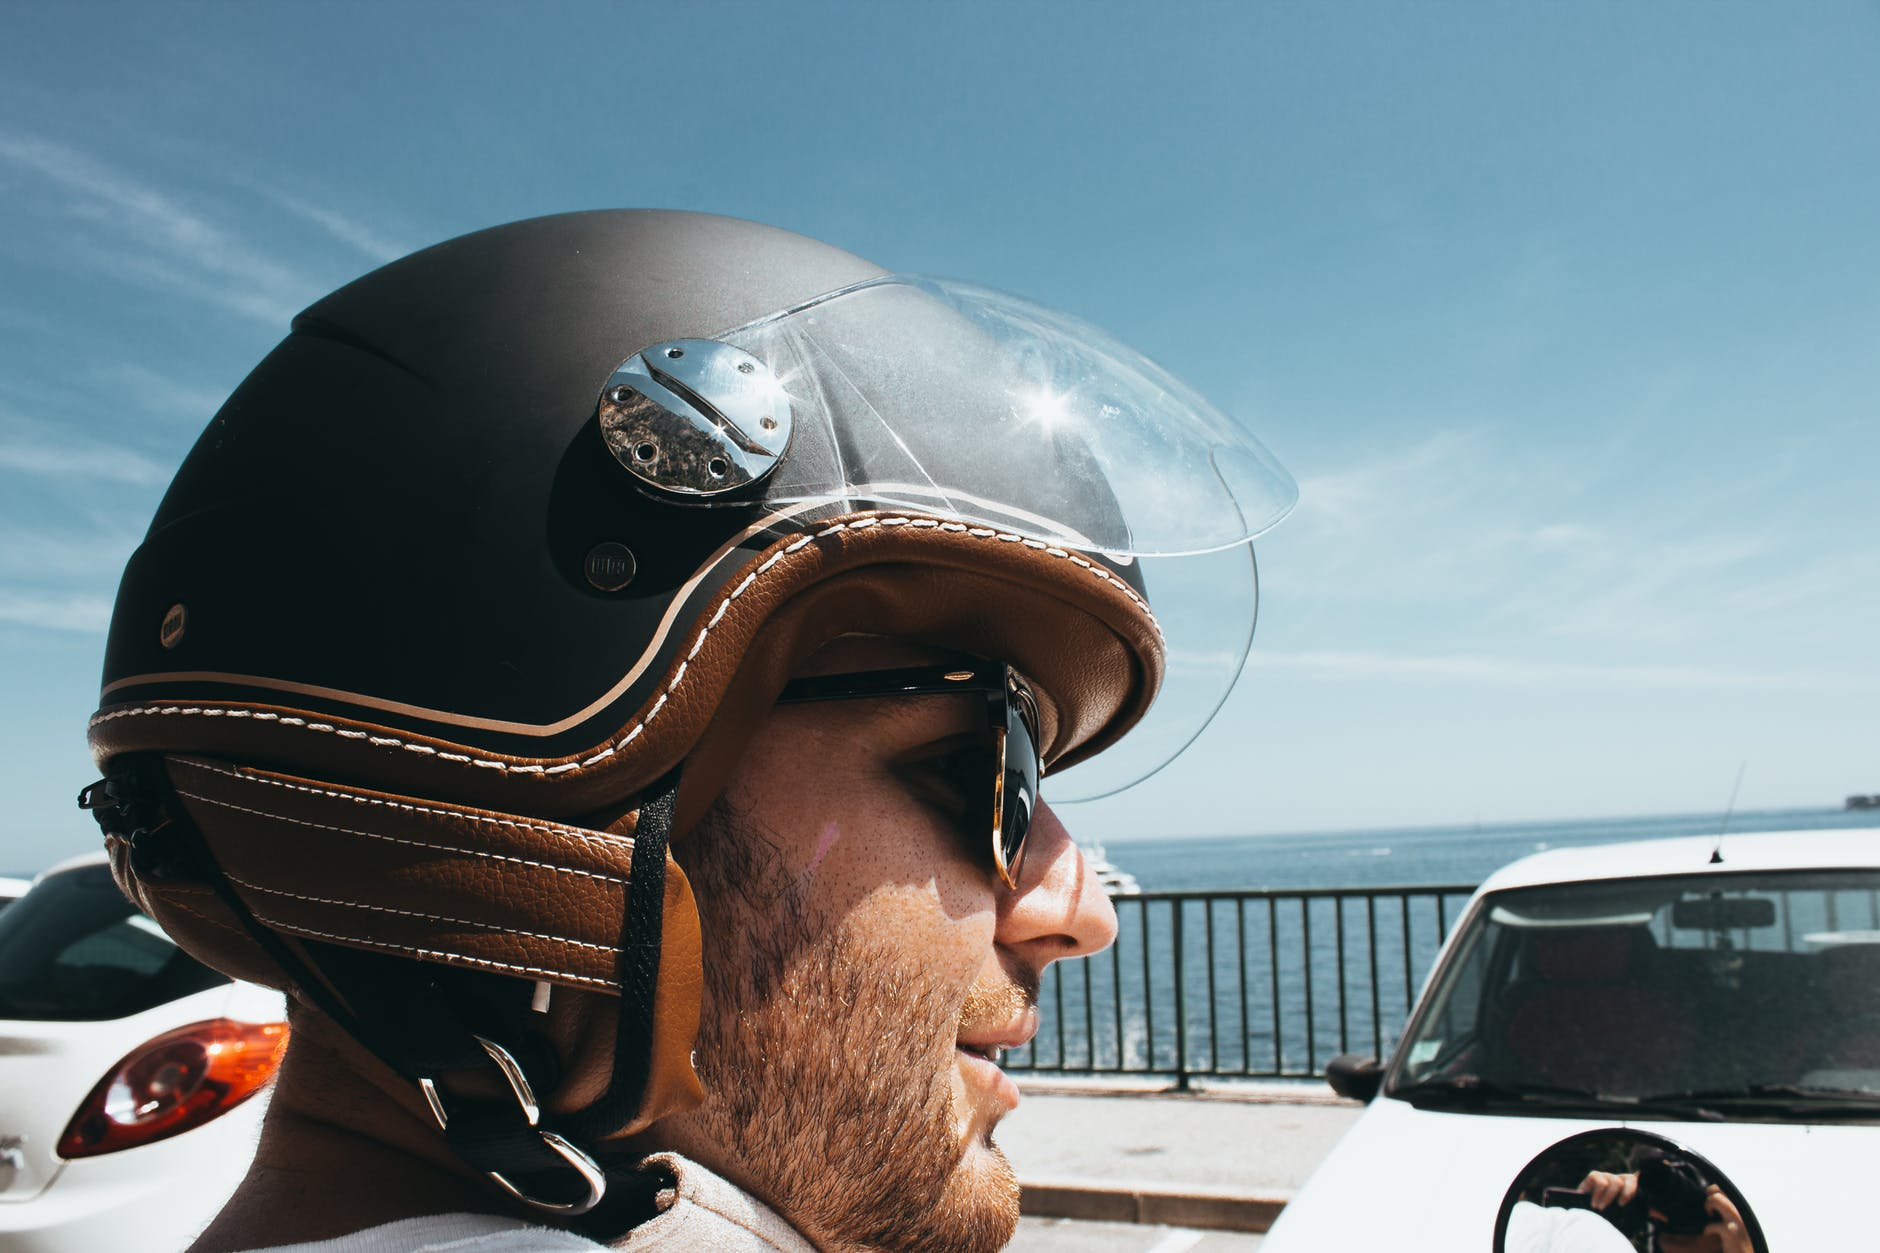helmet: (169, 267, 1190, 829)
